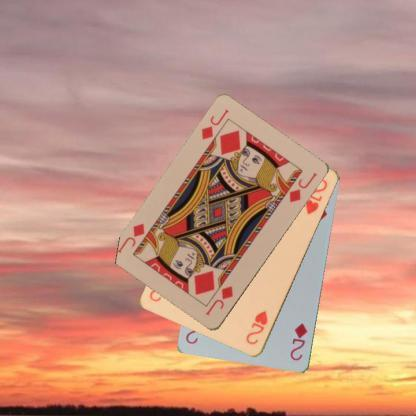2d: (288, 320, 310, 362)
2h: (243, 309, 269, 346)
Jd: (199, 106, 230, 142), (202, 283, 234, 317)
